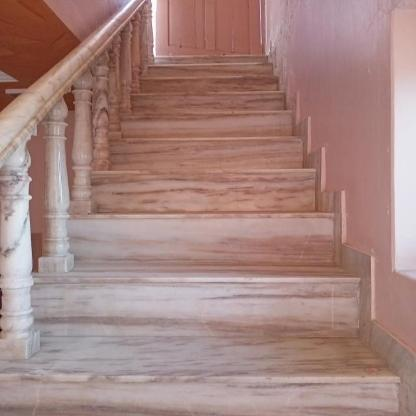stair: (40, 41, 358, 416)
